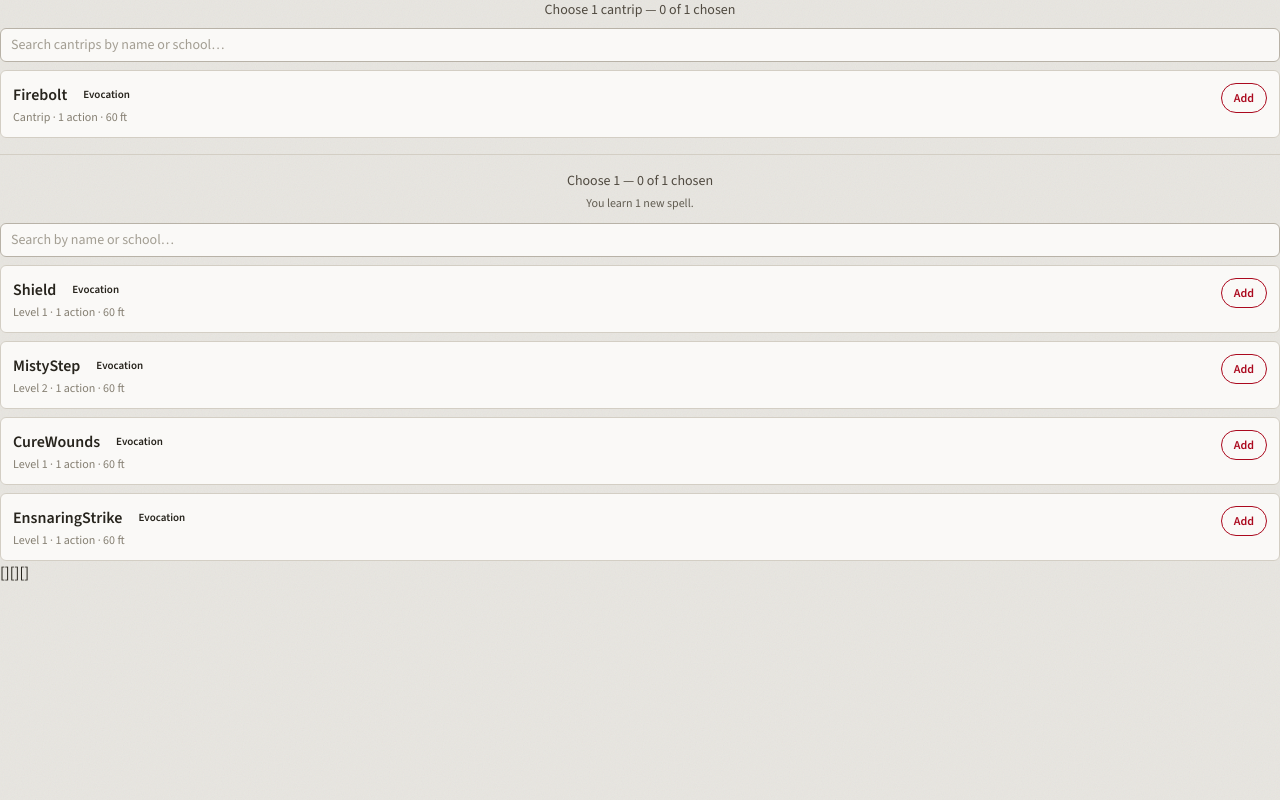
Test: NewSpellsStep — cantrip picks (#1131) › opens the shared detail card with the full description for a cantrip row too (#1158)
Click the button with aria-label "Open Firebolt": (40, 94) 13,83 -> 1209,125
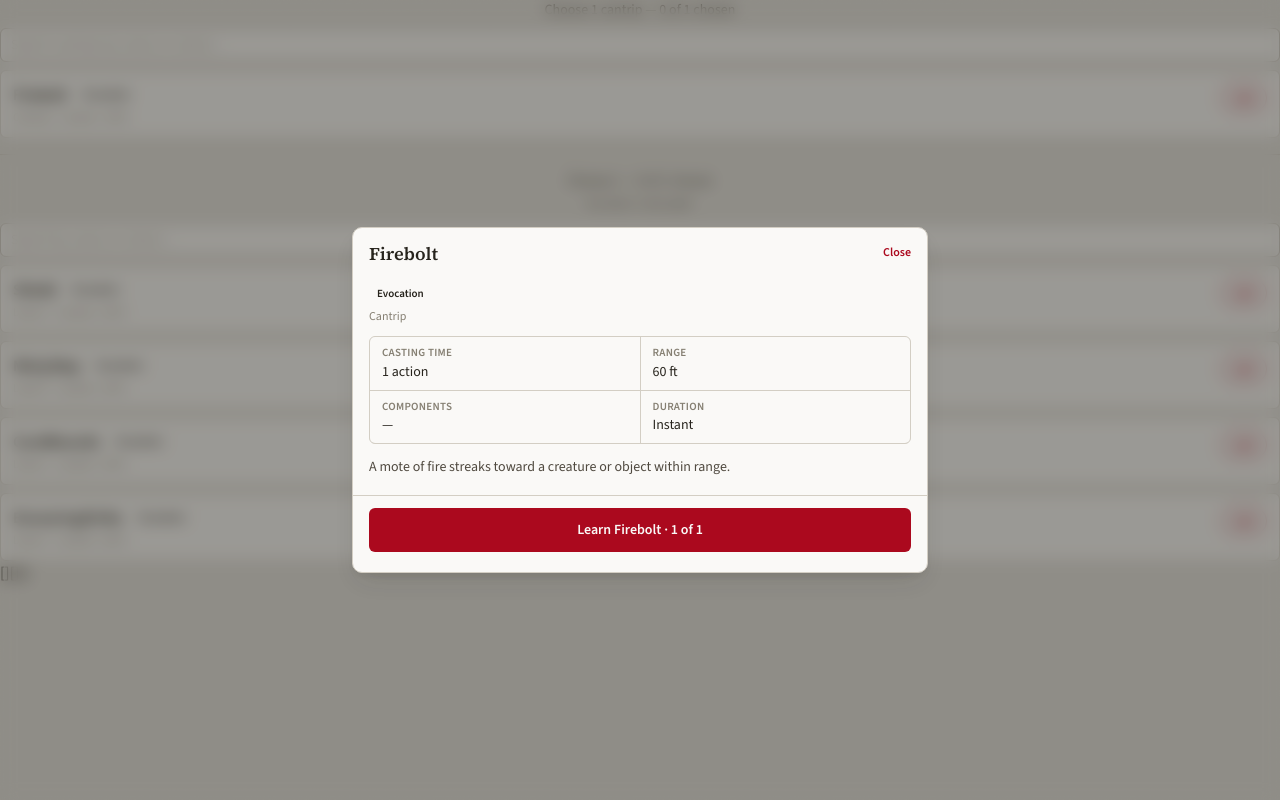
Expected: the text "mote of fire streaks toward" is shown, 369,457 -> 730,476
Click the button "Learn Firebolt · 1 of 1": (640, 530) 369,508 -> 911,552
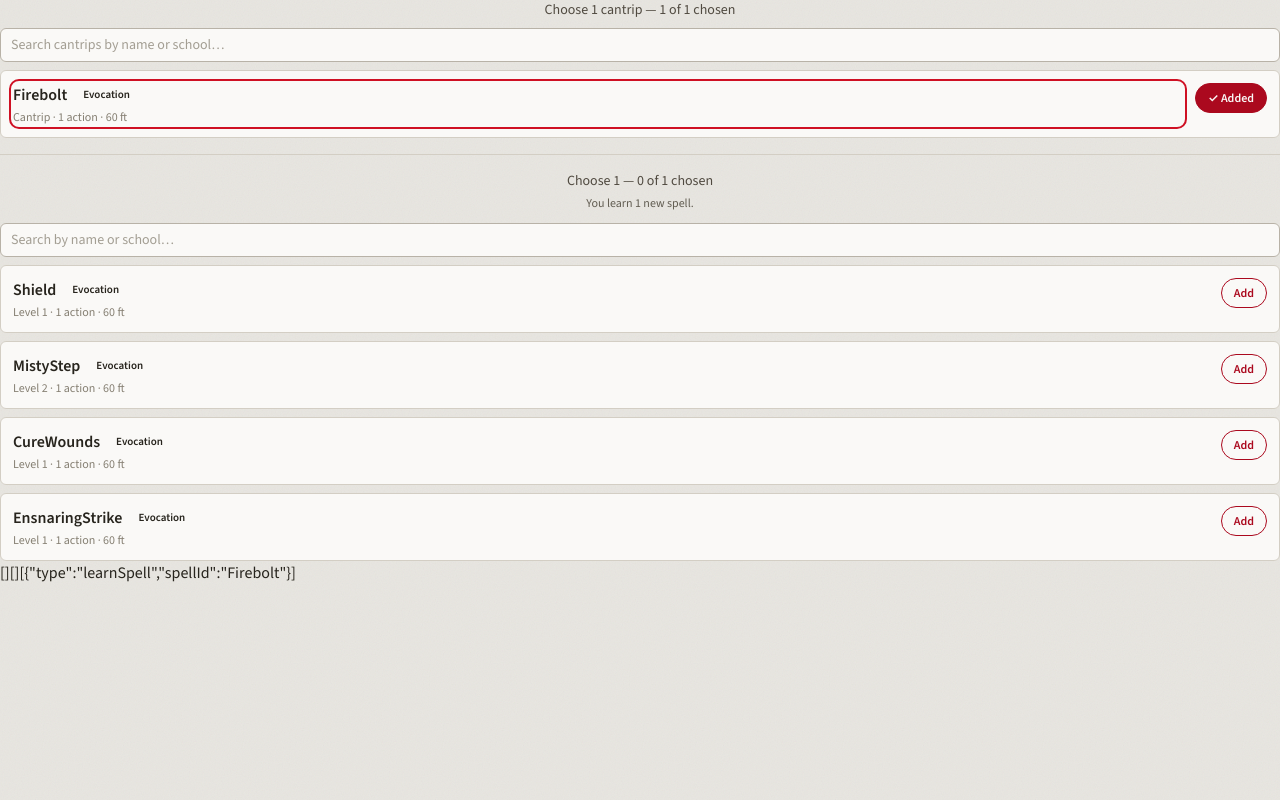
Expected: the text "mote of fire streaks toward" is gone
